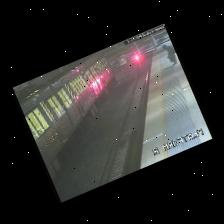person: (162, 45, 176, 65)
